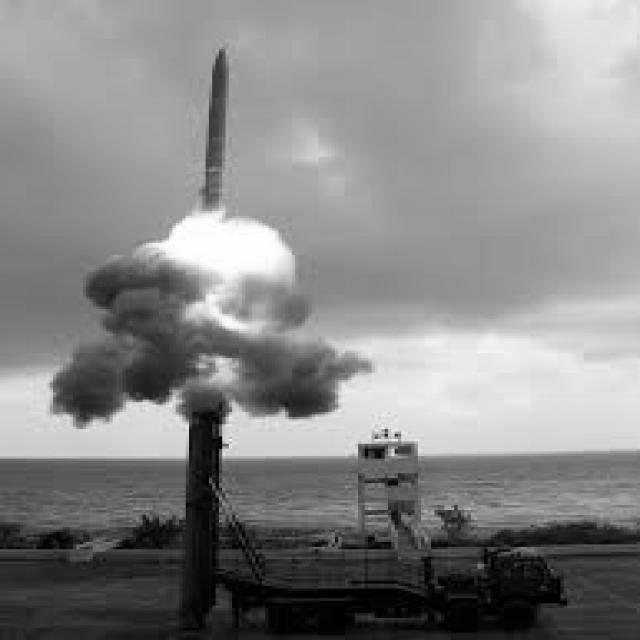Missile: (193, 30, 247, 228)
